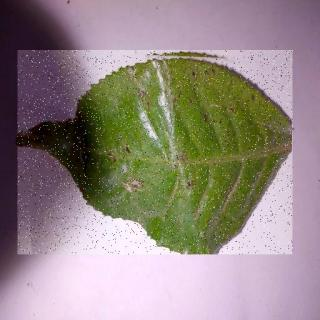Bird Eye Spot: (19, 51, 295, 255)
